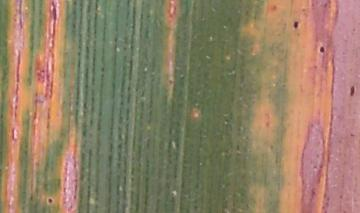tarspot: (348, 84, 357, 98), (318, 44, 327, 55), (45, 196, 54, 205), (292, 20, 300, 29)
